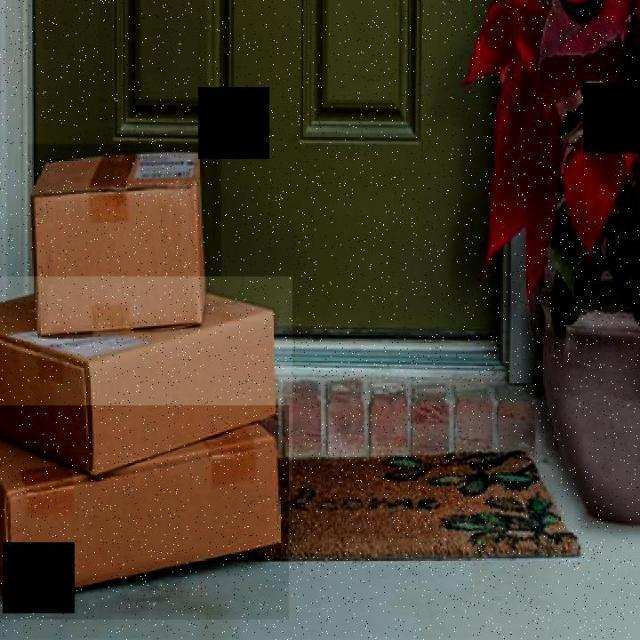box: (0, 406, 289, 620), (0, 276, 292, 480), (28, 144, 222, 358)
